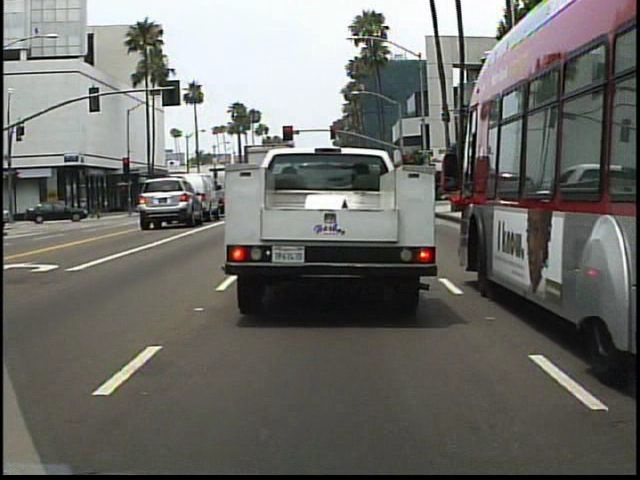person: (49, 193, 68, 224)
